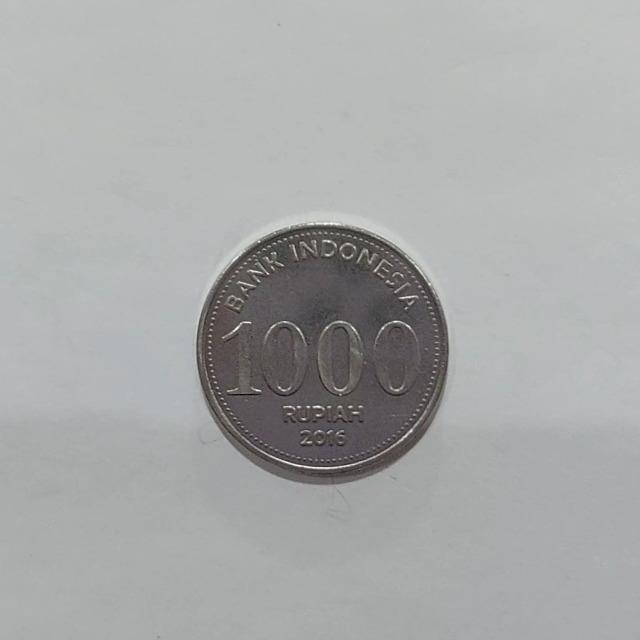Rp100: (194, 218, 450, 485)
